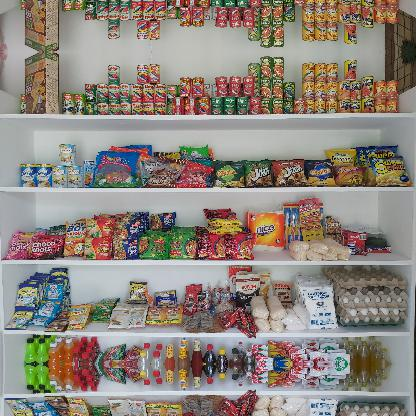Koko-Krunch: (24, 52, 60, 114), (24, 0, 60, 53)
